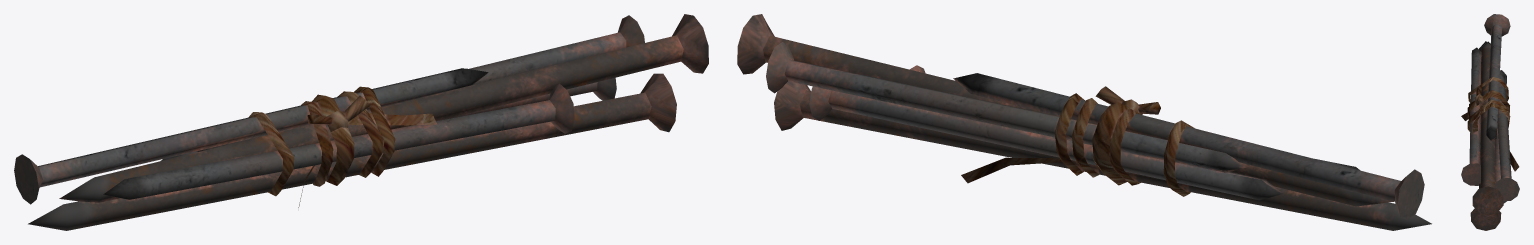
The model's file is ritualNails.FBX.
3 views of the same model, side by side, from view 1: azimuth 30°, elevation 25°; view 2: azimuth 150°, elevation 25°; view 3: azimuth 270°, elevation 25° (orthographic). The views are drawn at different scales.
Parts seen in each view (by area): view 1: ritualNails; view 2: ritualNails; view 3: ritualNails.
Part boxes in pixels (x1,y1,x2,y2): ritualNails: (14, 14, 708, 230); ritualNails: (737, 14, 1431, 230); ritualNails: (1461, 14, 1519, 230).
Size of the model in its own units: 14.34 by 2.41 by 2.13.
